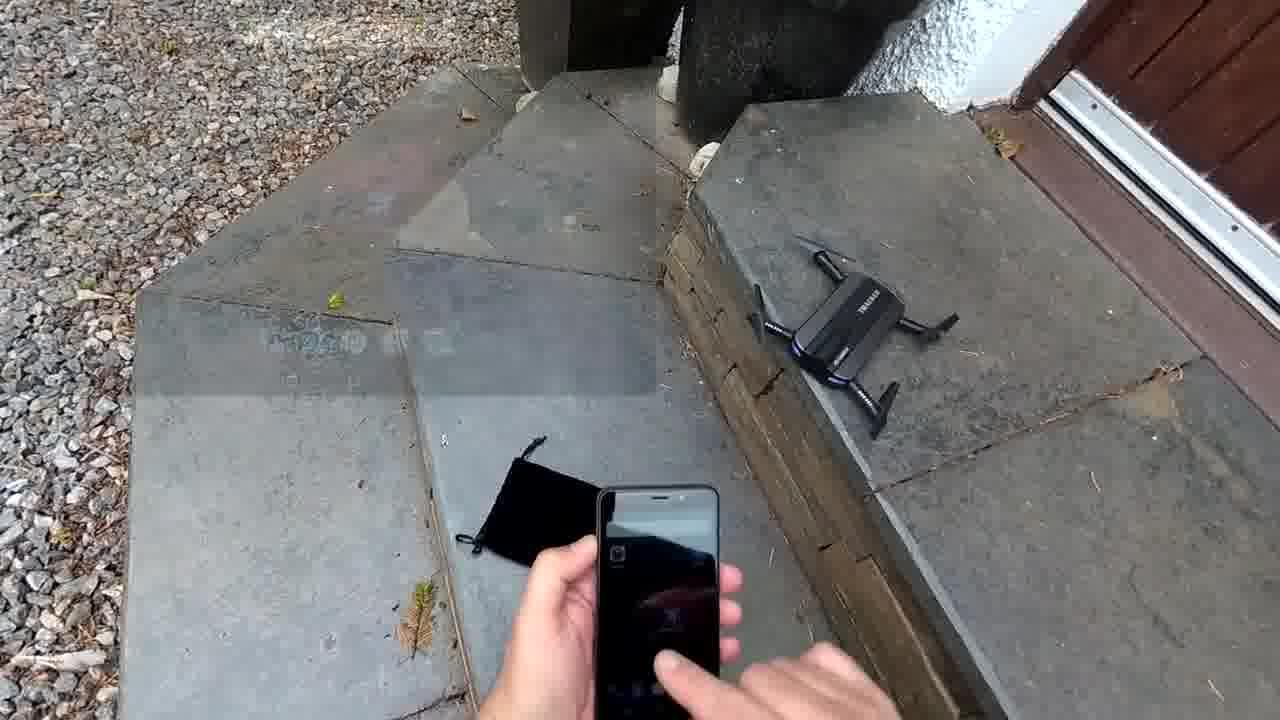drone: (733, 226, 958, 434)
